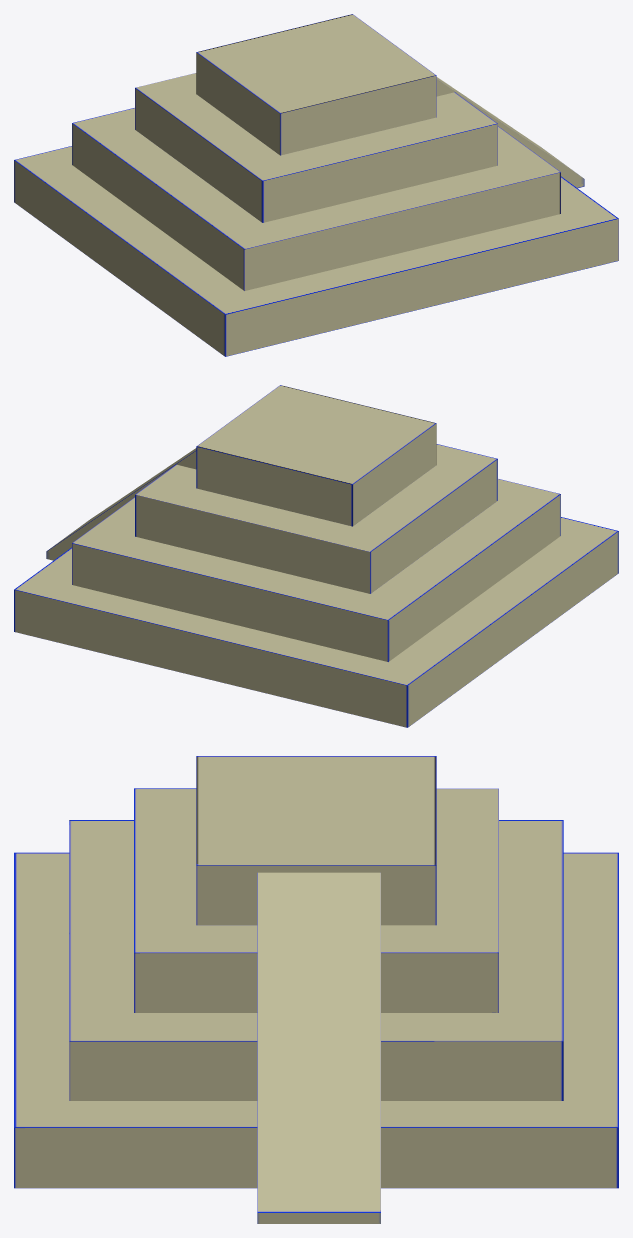
The model's file is templomayafase1.glb.
The picture shows the model from 3 angles, top to bottom: view 1: azimuth 30°, elevation 25°; view 2: azimuth 150°, elevation 25°; view 3: azimuth 270°, elevation 25°; orthographic projection. The views are drawn at different scales.
Parts seen in each view (by area): view 1: Cube.004, Cube.008; view 2: Cube.004, Cube.008; view 3: Cube.004, Cube.008.
Part boxes in pixels (x1,y1,x2,y2): Cube.004: (14, 14, 618, 356); Cube.008: (436, 77, 584, 188); Cube.004: (14, 385, 618, 727); Cube.008: (46, 448, 196, 560); Cube.004: (14, 756, 618, 1188); Cube.008: (257, 872, 380, 1223).
Size of the model in its own units: 51.85 by 18.73 by 42.72.
2 materials, 2 textured.
